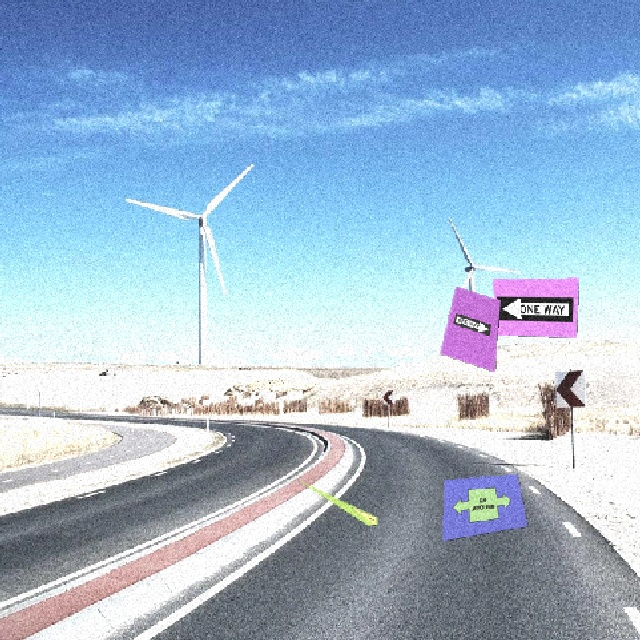GO_AROUND: (447, 483, 513, 525)
ONE_WAY_ left: (496, 296, 572, 321)
ONE_WAY_ right: (451, 312, 491, 335)
YIELD: (349, 504, 376, 525)
